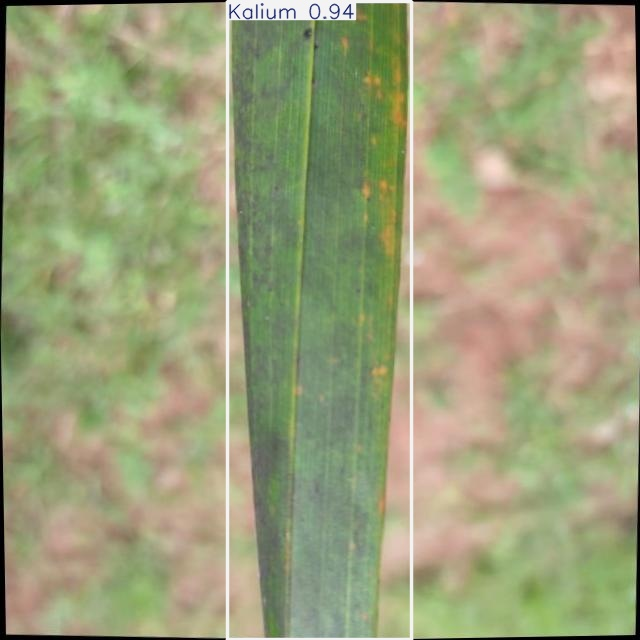Kalium: (227, 1, 411, 640)
